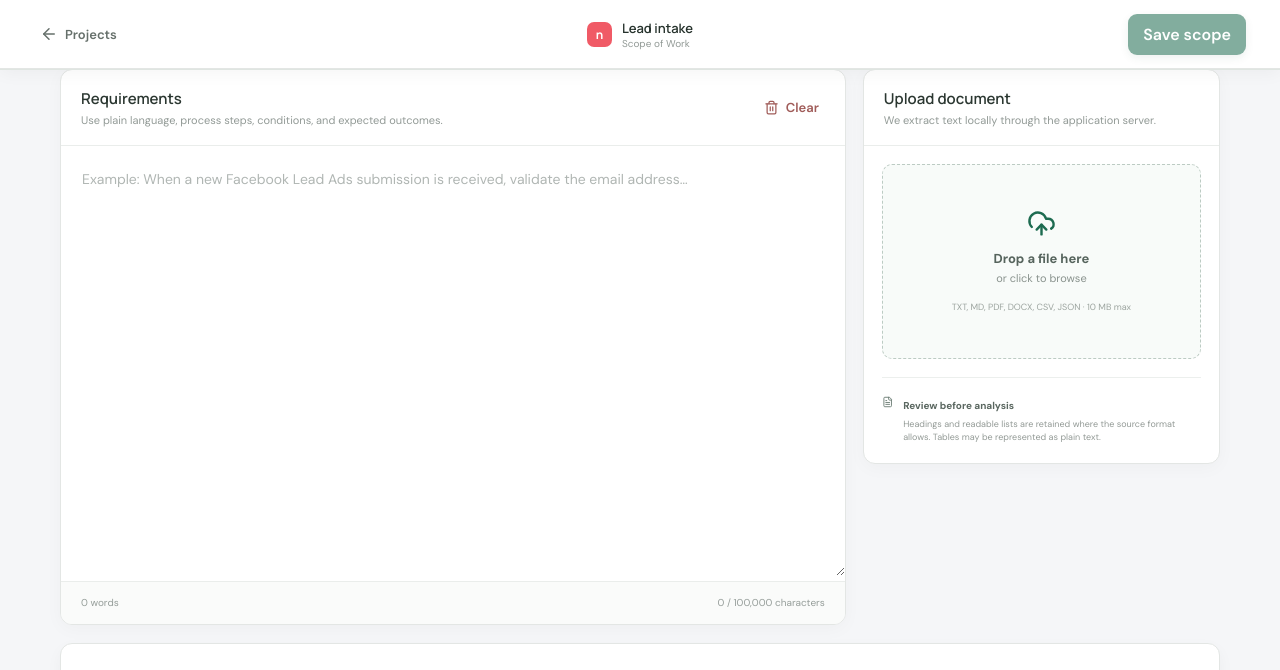
it: ScopeWorkspace › accepts pasted requirements and updates counts
(page scrolled)
Replace the text in the text box named "Scope of Work text" with "When a lead arrives, notify sales." at (453, 361), box [61,146,845,576]
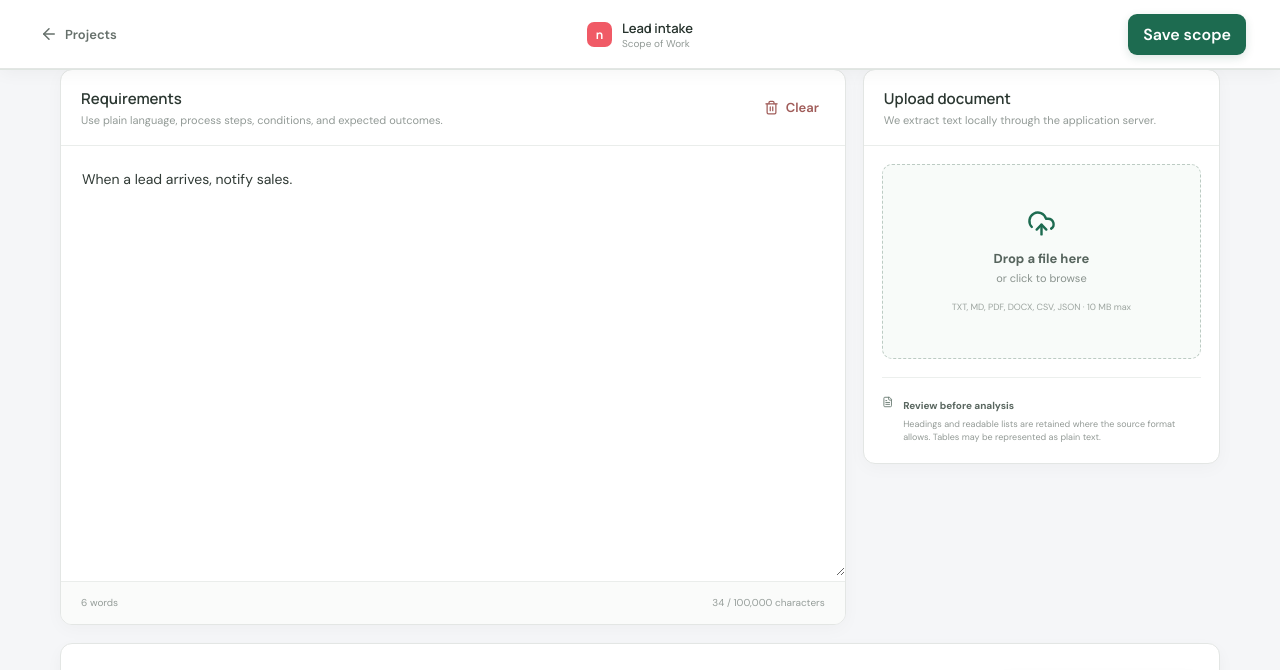
Check: the text "6 words" is shown, box [81,596,118,609]
Check: the button "Save scope" is enabled, box [1128,14,1246,54]
